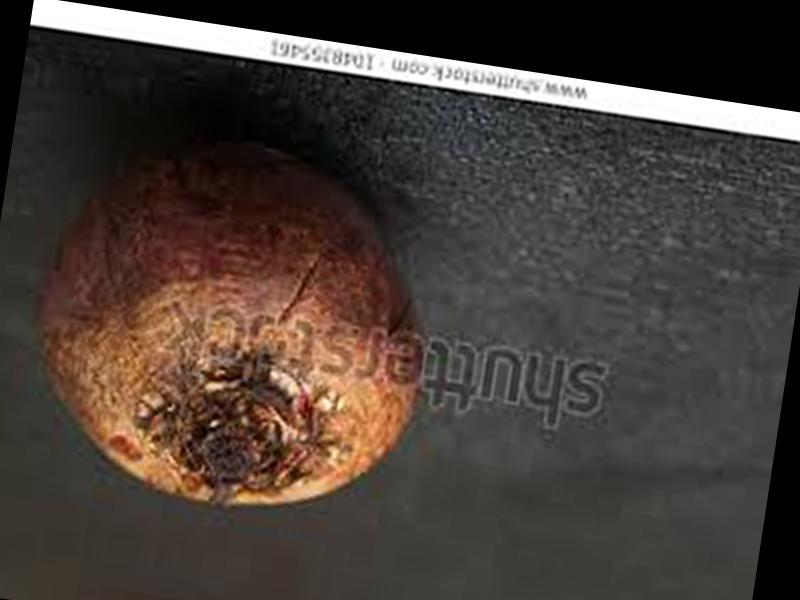Beet: (7, 119, 447, 528)
